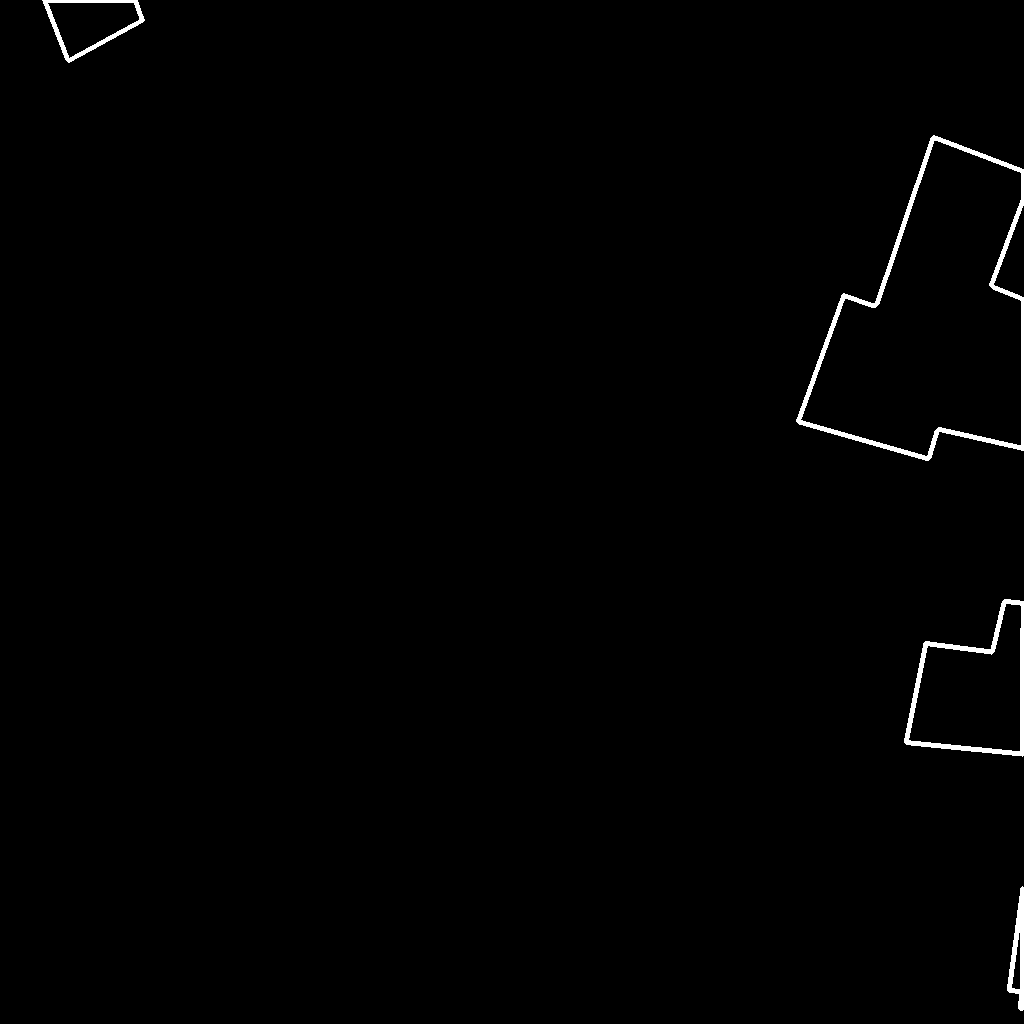building: (798, 137, 1024, 460), (906, 601, 1024, 755), (44, 0, 144, 62), (1009, 885, 1024, 1010)
